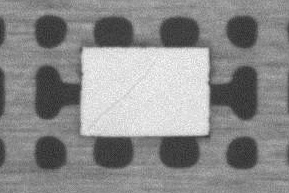DIE_CRACK: (87, 55, 159, 130)
